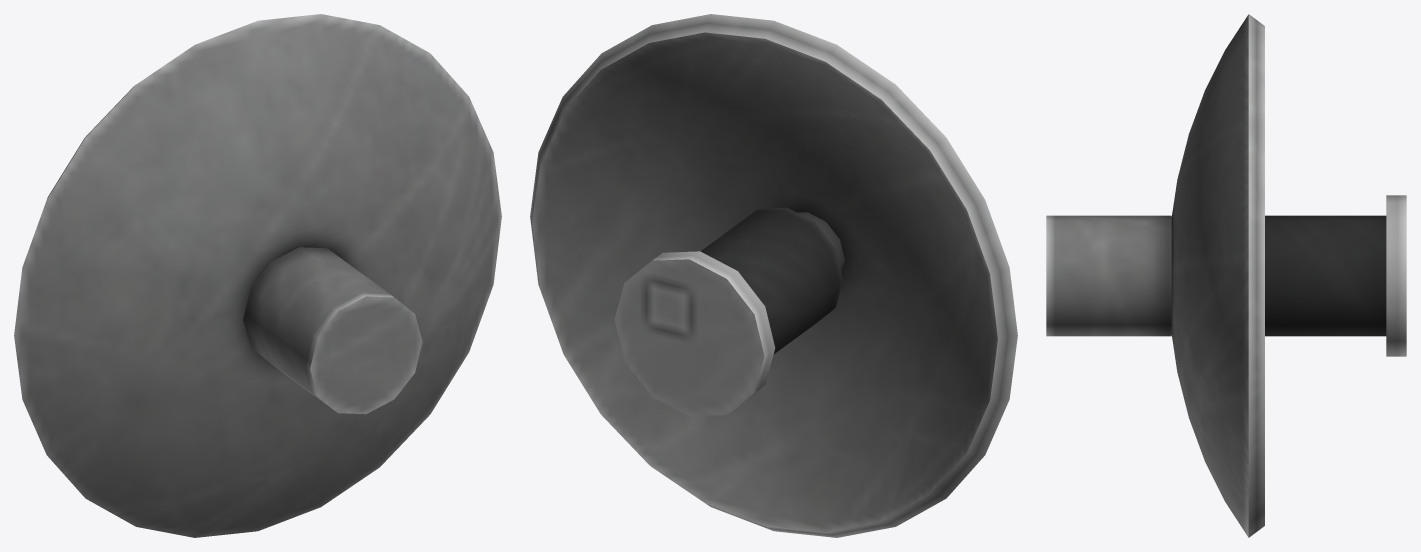
Rendered from ye8_rtg_srf_1.obj.
The picture shows the model from 3 angles, left to right: view 1: azimuth 30°, elevation 25°; view 2: azimuth 150°, elevation 25°; view 3: azimuth 270°, elevation 25°; orthographic projection. The views are drawn at different scales.
Parts seen in each view (by area): view 1: 1; view 2: 1; view 3: 1.
Part boxes in pixels (x1,y1,x2,y2): 1: (14, 14, 501, 537); 1: (530, 14, 1017, 537); 1: (1046, 14, 1406, 537).
Bounding box in the file's own units: 0.325 × 0.325 × 0.2225.
Materials: 1 (1 with a texture image).
